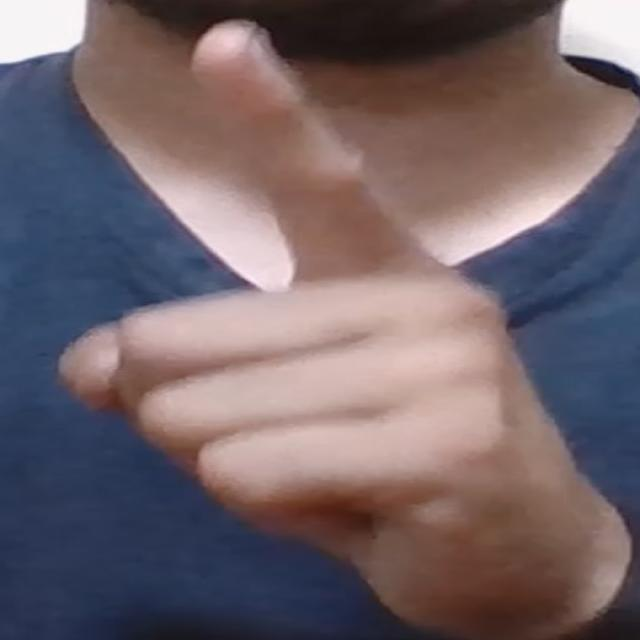Z: (39, 15, 617, 636)
